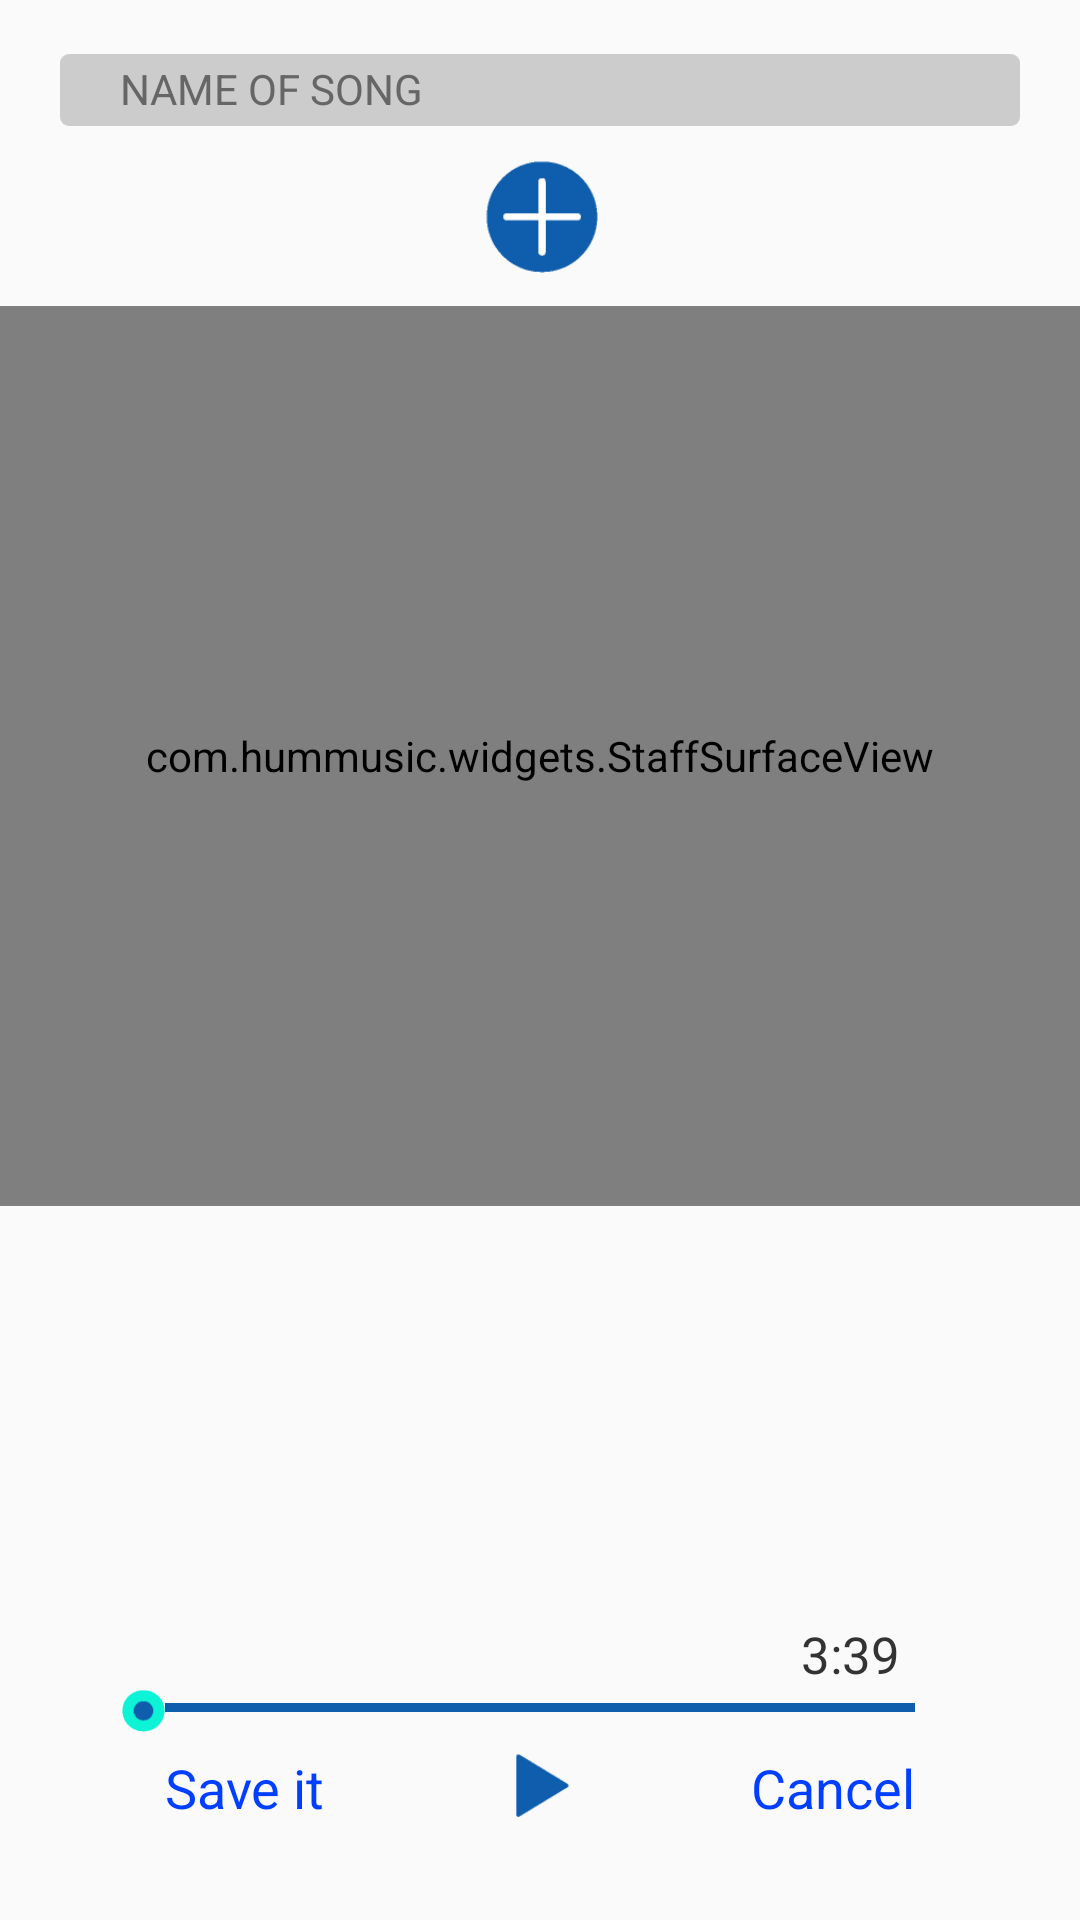

Screen size 1080 × 1920. Icon name, then its box in pixels as rect(x1, y1, x2, y2):
add: rect(486, 161, 598, 273)
play: rect(516, 1754, 569, 1817)
progressnode: rect(122, 1690, 165, 1732)
